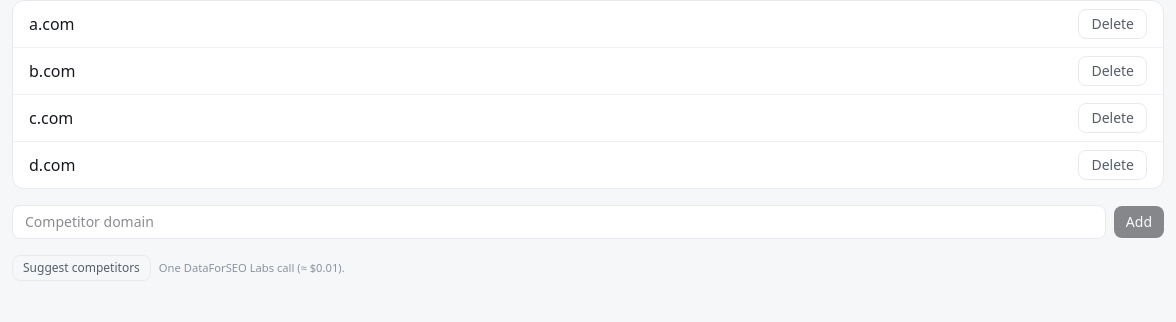
CompetitorManager › surfaces 'Maximum 10 competitors' on a 409 from POST, distinct from a generic error
The image size is (1176, 322).
Step 1. Type "e.com" into the field with placeholder "Competitor domain" → [559, 222], box [12, 205, 1106, 239]
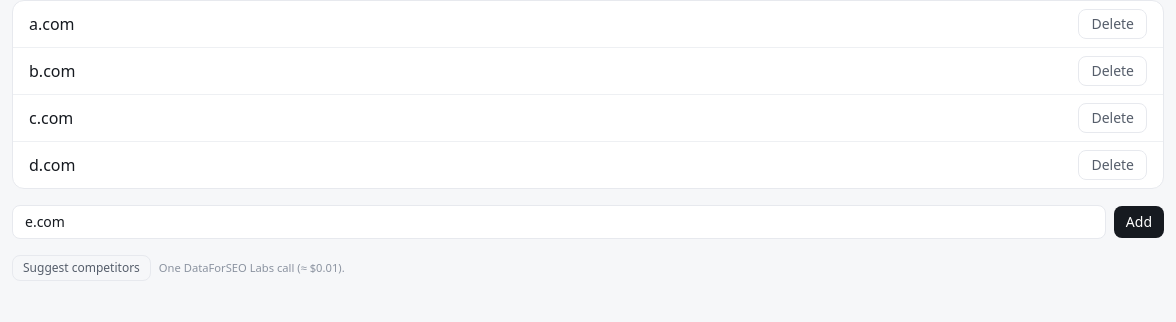
Step 2. Click the button "Add" → [1139, 222], box [1114, 206, 1164, 238]
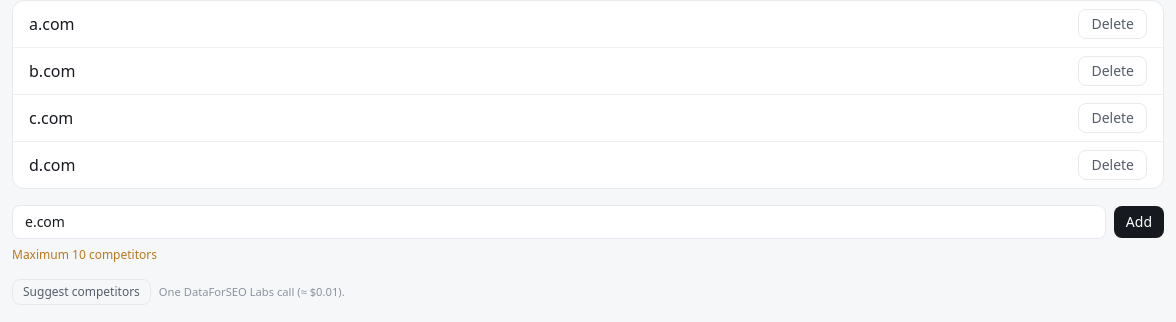
Now the text "Maximum 10 competitors" is shown, box [12, 246, 157, 263]
